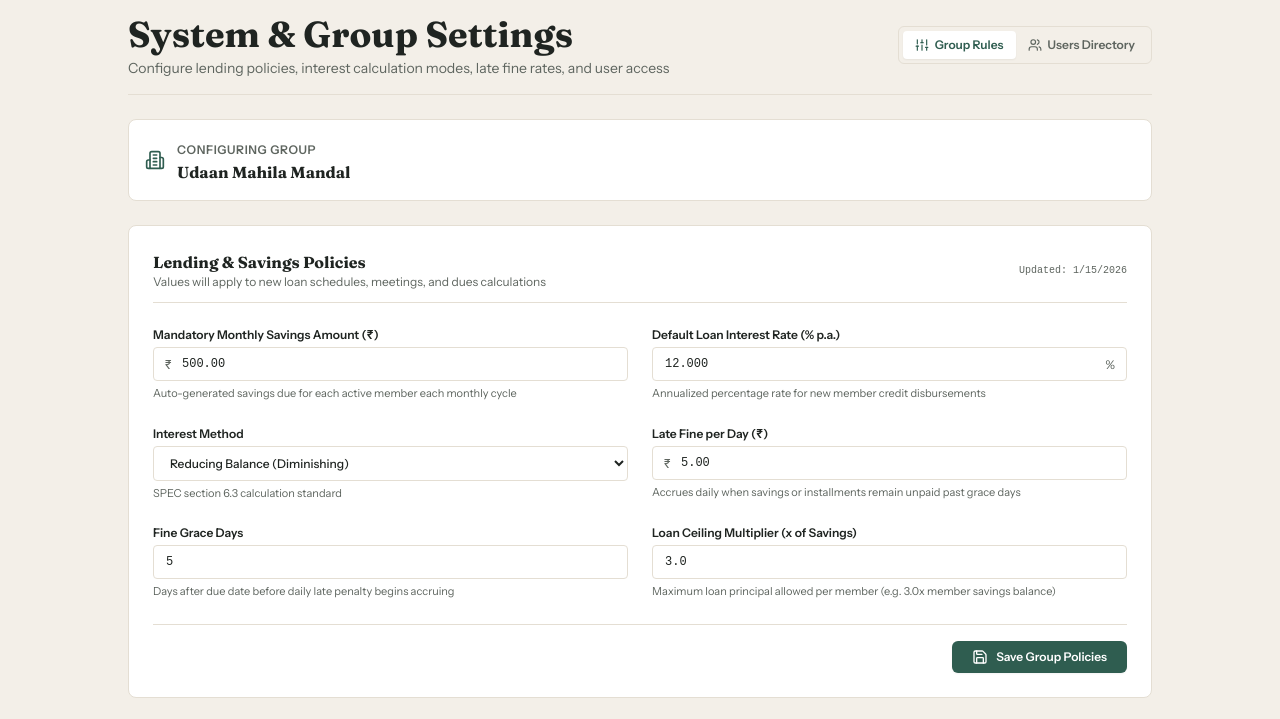
Test: Screen 12: System & Group Settings › updates group settings and shows success feedback
Replace the text in the number field showing "500.00" below "Mandatory Monthly Savings Amount (₹)" with "600" at [390, 364], box [153,347,628,381]
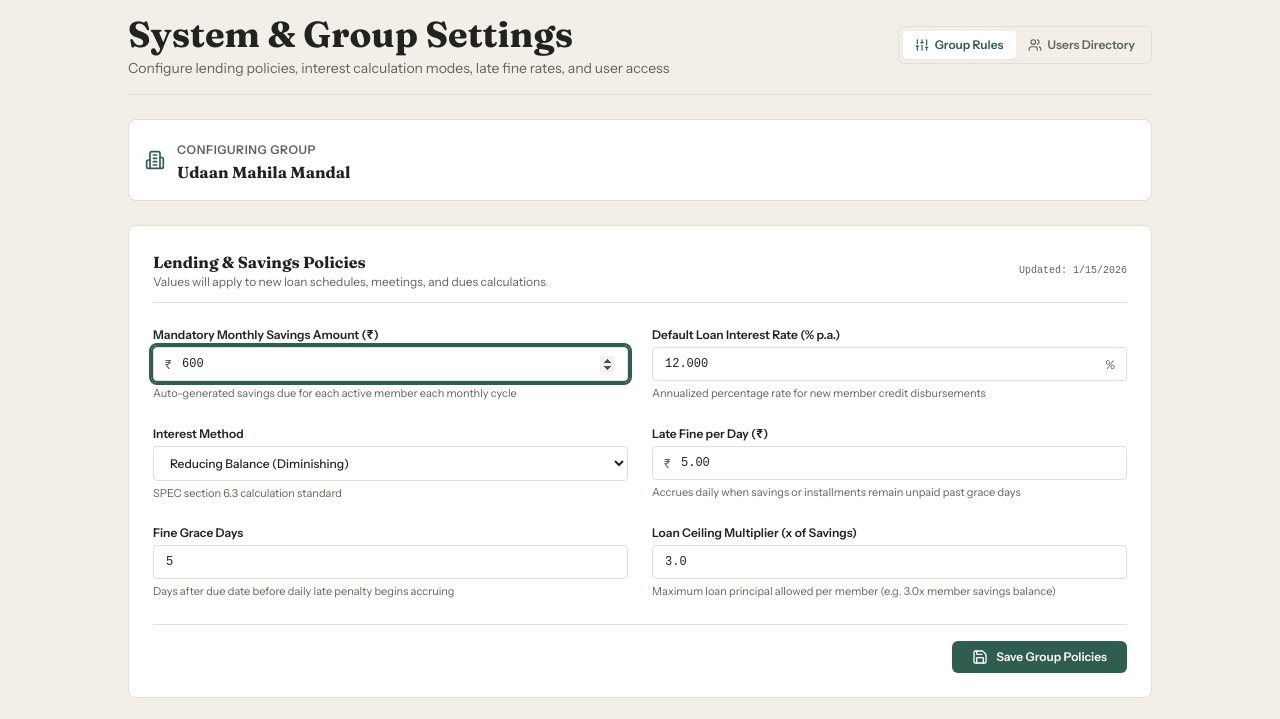
Click the button "Save Group Policies" at [1040, 656], box [952,640,1127,672]
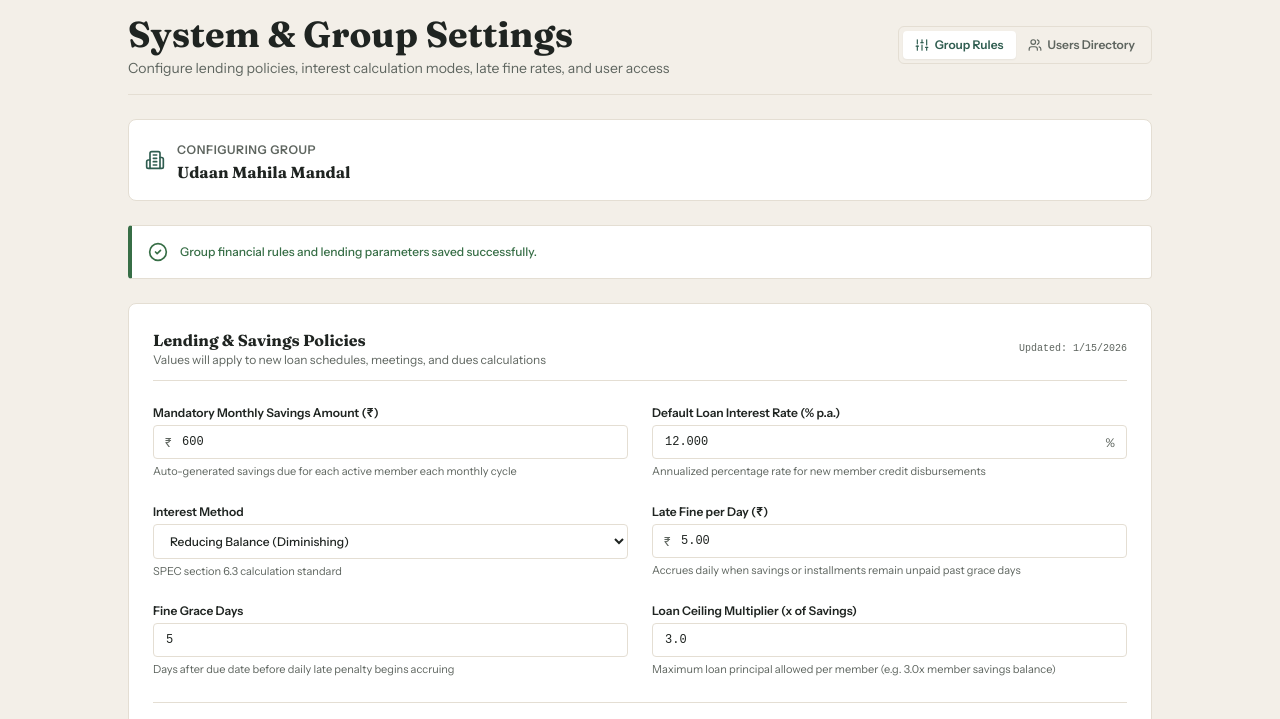
Check: the text "Group financial rules and lending parameters saved successfully." is shown, box [180,244,537,260]
